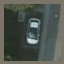car: (26, 18, 41, 44)
